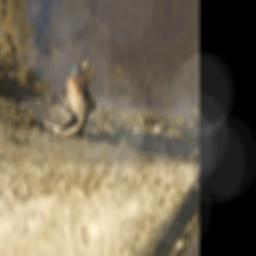Swallow: (21, 53, 105, 161)
